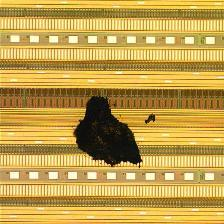PARTICLE: (72, 94, 160, 171)
